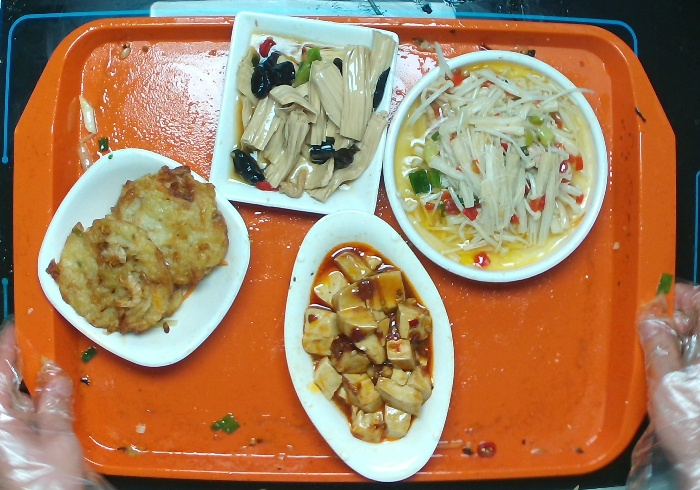HZYJPL-Si_Fang_Die: (205, 3, 406, 237)
HZYJPL-Si_Fang_Yuan_Die: (17, 144, 260, 384)
HZYJPL-Xiao_Yu_Die: (268, 202, 459, 486)
HZYJPL-Xiao_Yuan_Die: (375, 47, 619, 290)
